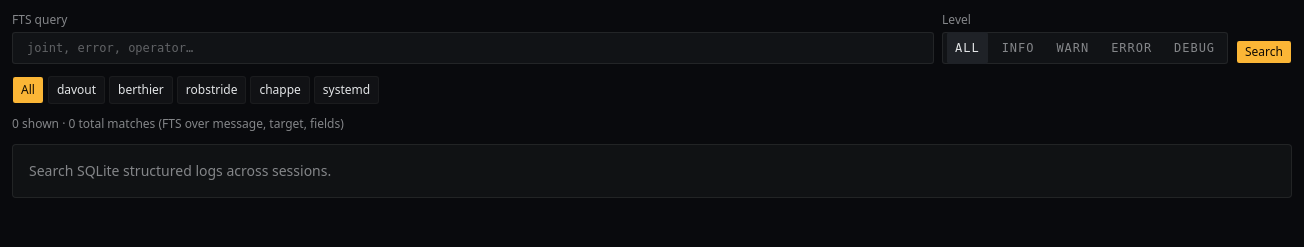
Test: LogsArchiveSearch panel filters › distinguishes HTTP failure from ok-empty LogApiResult
The image size is (1304, 247).
Click the button "Search": (1264, 52) 1236,40 -> 1292,64
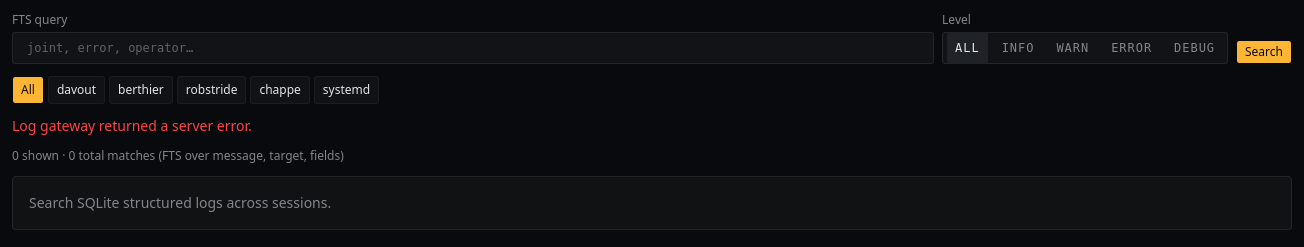
Expected: the text "Log gateway returned a server error." is shown, 12,116 -> 252,135
